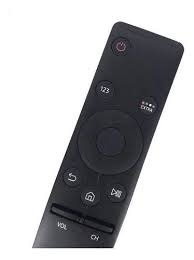remote control: (25, 11, 188, 260)
